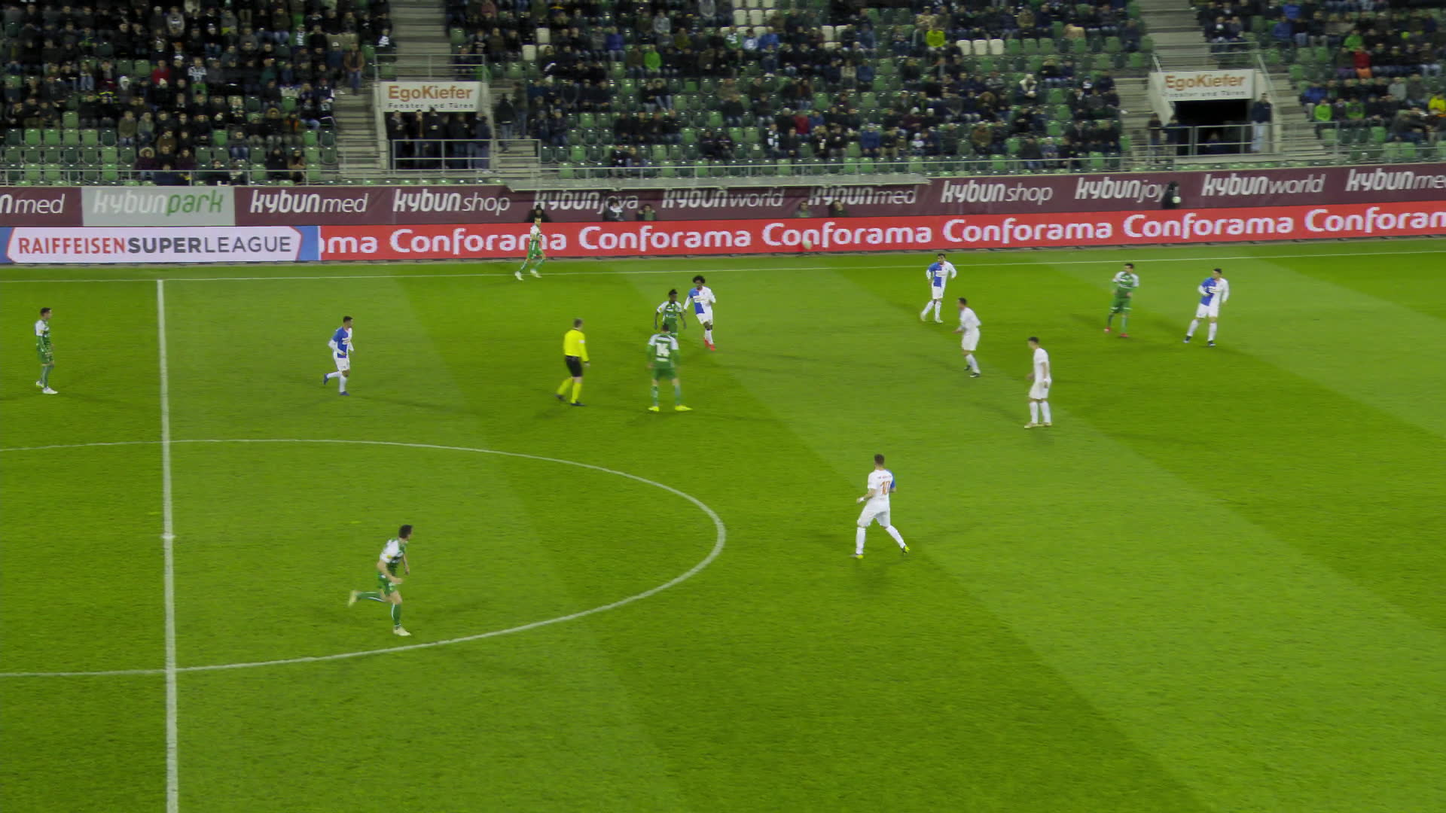ball: (658, 359, 665, 367)
player: (347, 525, 413, 637), (846, 452, 905, 559), (648, 323, 691, 413), (1186, 268, 1231, 346), (1023, 336, 1060, 429), (684, 275, 721, 352), (1106, 263, 1140, 339), (508, 216, 549, 279), (325, 315, 355, 395), (32, 306, 59, 394), (923, 254, 957, 323), (956, 296, 984, 376), (654, 286, 685, 347)
referee: (554, 318, 594, 406)
